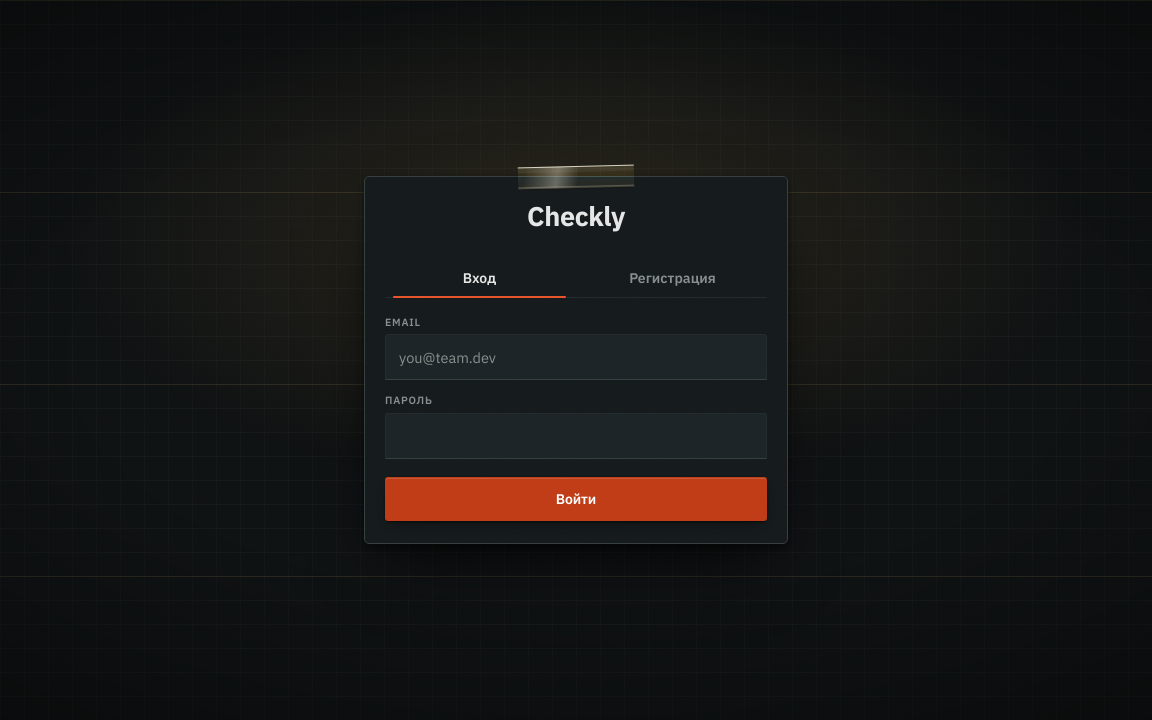
LoginPage › rejects an invalid email without logging in
This screenshot has width=1152, height=720.
In the field labelled "Email": (576,357) [385, 334, 767, 380], type "not-an-email"
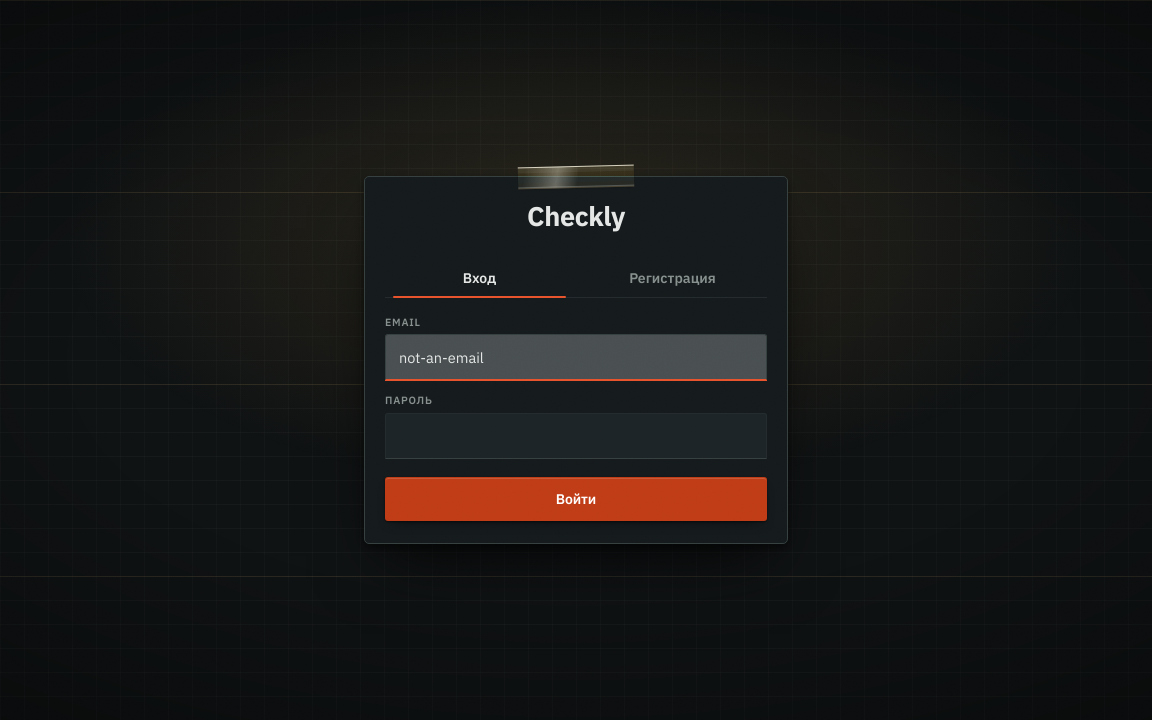
In the password field labelled "Пароль": (576,436) [385, 413, 767, 459], type "password123"
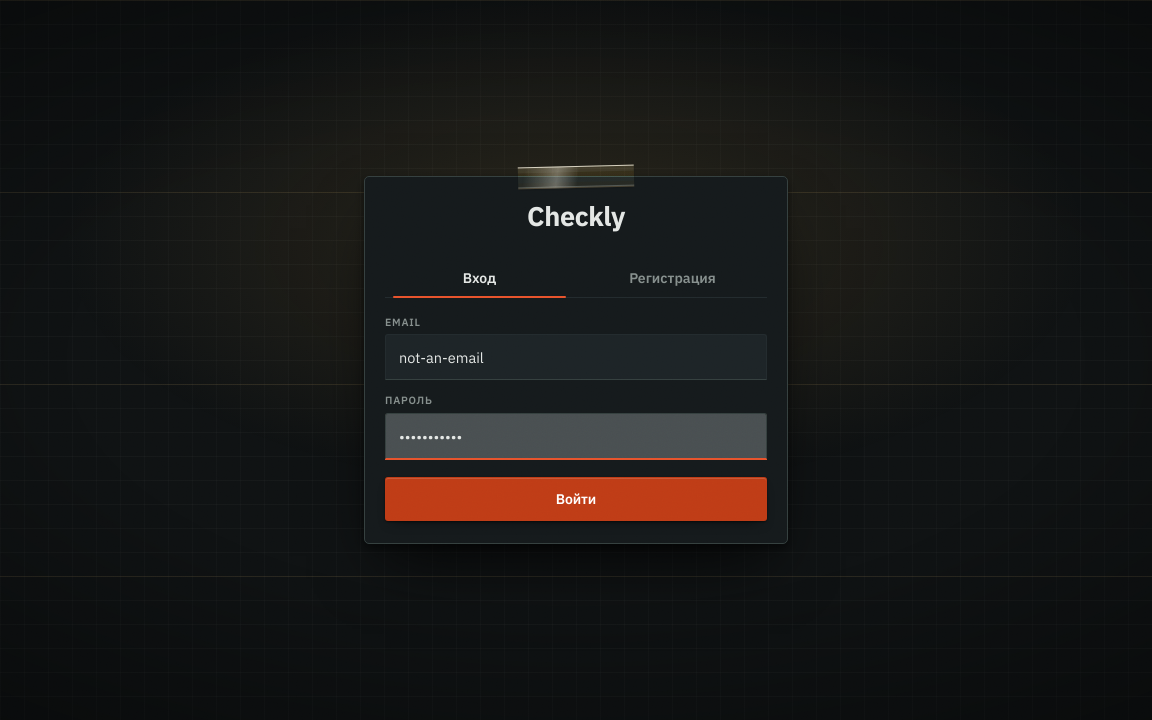
Click the button "Войти": (576,499) [385, 477, 767, 521]
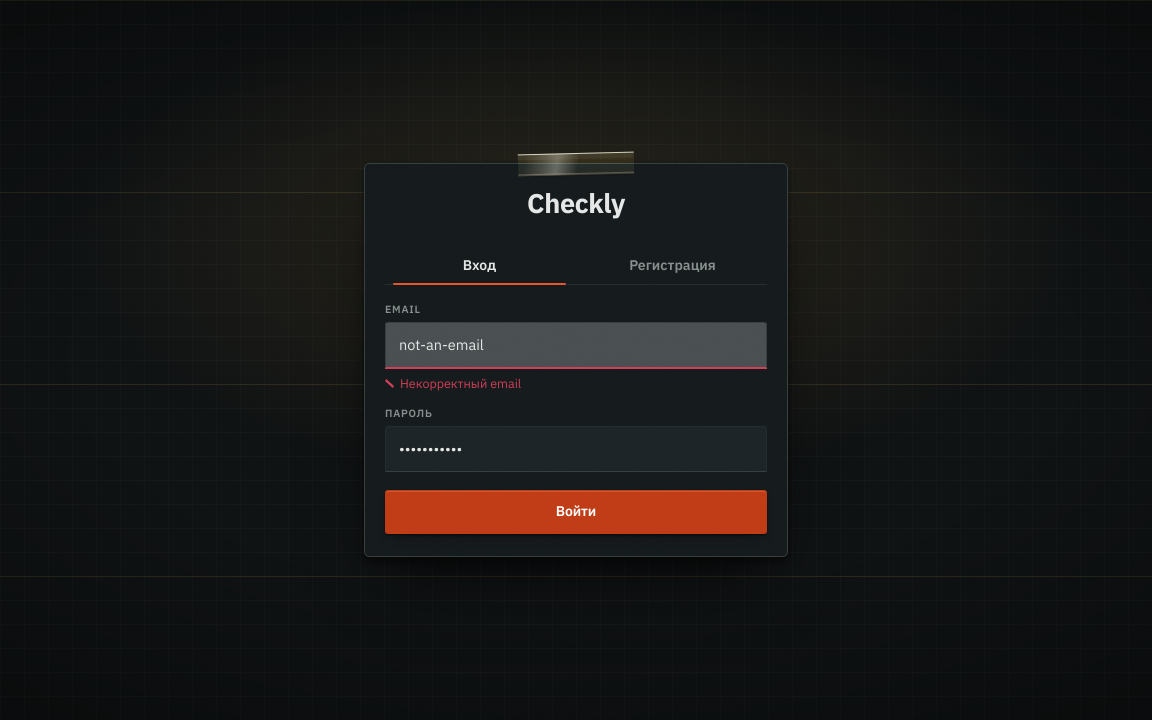
Now the text "Некорректный email" is shown, box [400, 375, 521, 391]
